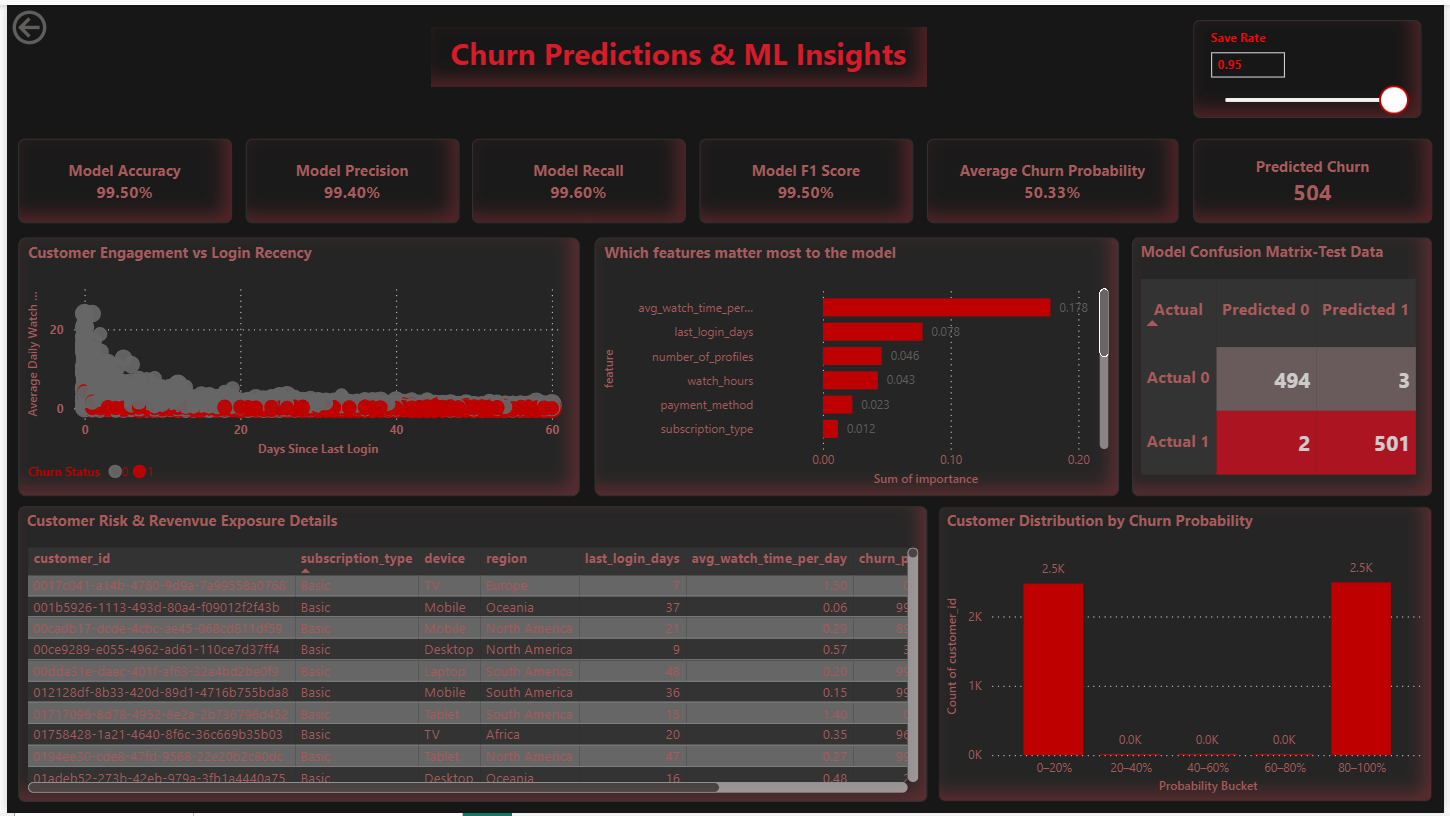

The page's visual inventory and layout, read from the dashboard file:
{"tool":"powerbi","page":{"name":"Churn Predictions & ML Insights","canvas":[1280,720],"ordinal":1},"visuals":[{"type":"clusteredBarChart","title":"Which features matter most to the model","fields":{"Category":["feature_importance.feature"],"Y":["Sum(feature_importance.importance)"]},"box":[522.9,207.1,467.1,230],"z":0},{"type":"scatterChart","title":"Customer Engagement vs Login Recency","fields":{"X":["Avg(churn_scored.last_login_days)"],"Y":["Avg(churn_scored.avg_watch_time_per_day)"],"Series":["churn_scored.churned"],"Size":["Avg(churn_scored.mrr)"],"Category":["churn_scored.customer_id"]},"box":[10,207.1,500,230],"z":1000},{"type":"tableEx","title":"Customer Risk & Revenvue Exposure Details","fields":{"Values":["churn_scored.customer_id","churn_scored.subscription_type","churn_scored.device","churn_scored.region","churn_scored.last_login_days","churn_scored.avg_watch_time_per_day","churn_scored.churn_prob","churn_scored.risk_tier","churn_scored.mrr","churn_scored.expected_loss"]},"box":[9.7,446.4,809.5,263],"z":2000},{"type":"actionButton","box":[0,0,100,40],"z":3000},{"type":"clusteredColumnChart","title":"Customer Distribution by Churn Probability ","fields":{"Y":["CountNonNull(churn_scored.customer_id)"],"Category":["churn_scored.Probability Bucket"]},"box":[828.8,446.4,440.4,263],"z":4000},{"type":"cardVisual","fields":{"Data":["test_predictions.Model Accuracy"]},"box":[9.9,119.2,190,75],"z":5000},{"type":"cardVisual","fields":{"Data":["test_predictions.Model Recall"]},"box":[414.5,119.2,190,75],"z":6000},{"type":"cardVisual","fields":{"Data":["test_predictions.Model Precision"]},"box":[212.2,119.2,190,75],"z":7000},{"type":"cardVisual","fields":{"Data":["Sum(test_predictions.predicted_churn)"]},"box":[1055.9,119.2,213,75],"z":8000},{"type":"cardVisual","fields":{"Data":["churn_scored.Average Churn Probability"]},"box":[819.2,119.2,224.4,75],"z":9000},{"type":"cardVisual","fields":{"Data":["test_predictions.Model F1 Score"]},"box":[616.8,119.2,190,75],"z":10000},{"type":"textbox","box":[377.6,19.7,441.6,53.1],"z":11000},{"type":"slicer","fields":{"Values":["Save Rate.Save Rate"]},"box":[1056.4,13.5,202.9,87.3],"z":12000},{"type":"pivotTable","title":"Model Confusion Matrix-Test Data","fields":{"Rows":["Confusion Axis.Actual"],"Columns":["Prediction Axis.Predicted"],"Values":["Prediction Axis.Confusion Matrix Value"]},"box":[1001.4,207.1,267.1,230],"z":13000}]}

Visuals, with their boxes in screenshot pixels (x1, y1, x2, y2), scaled from the page's 1280x720 canvas onto the 1450x816 screenshot:
"Which features matter most to the model" clusteredBarChart: bbox(592, 235, 1121, 495)
"Customer Engagement vs Login Recency" scatterChart: bbox(11, 235, 578, 495)
"Customer Risk & Revenvue Exposure Details" tableEx: bbox(11, 506, 928, 804)
actionButton: bbox(0, 0, 113, 45)
"Customer Distribution by Churn Probability " clusteredColumnChart: bbox(939, 506, 1438, 804)
cardVisual - test_predictions.Model Accuracy: bbox(11, 135, 226, 220)
cardVisual - test_predictions.Model Recall: bbox(470, 135, 685, 220)
cardVisual - test_predictions.Model Precision: bbox(240, 135, 456, 220)
cardVisual - Sum(test_predictions.predicted_churn): bbox(1196, 135, 1437, 220)
cardVisual - churn_scored.Average Churn Probability: bbox(928, 135, 1182, 220)
cardVisual - test_predictions.Model F1 Score: bbox(699, 135, 914, 220)
textbox: bbox(428, 22, 928, 83)
slicer - Save Rate.Save Rate: bbox(1197, 15, 1427, 114)
"Model Confusion Matrix-Test Data" pivotTable: bbox(1134, 235, 1437, 495)
